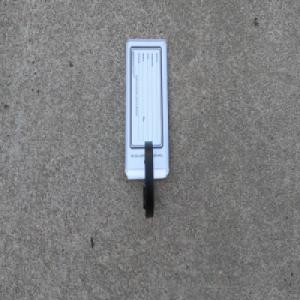LuggageTag: (123, 37, 170, 222)
